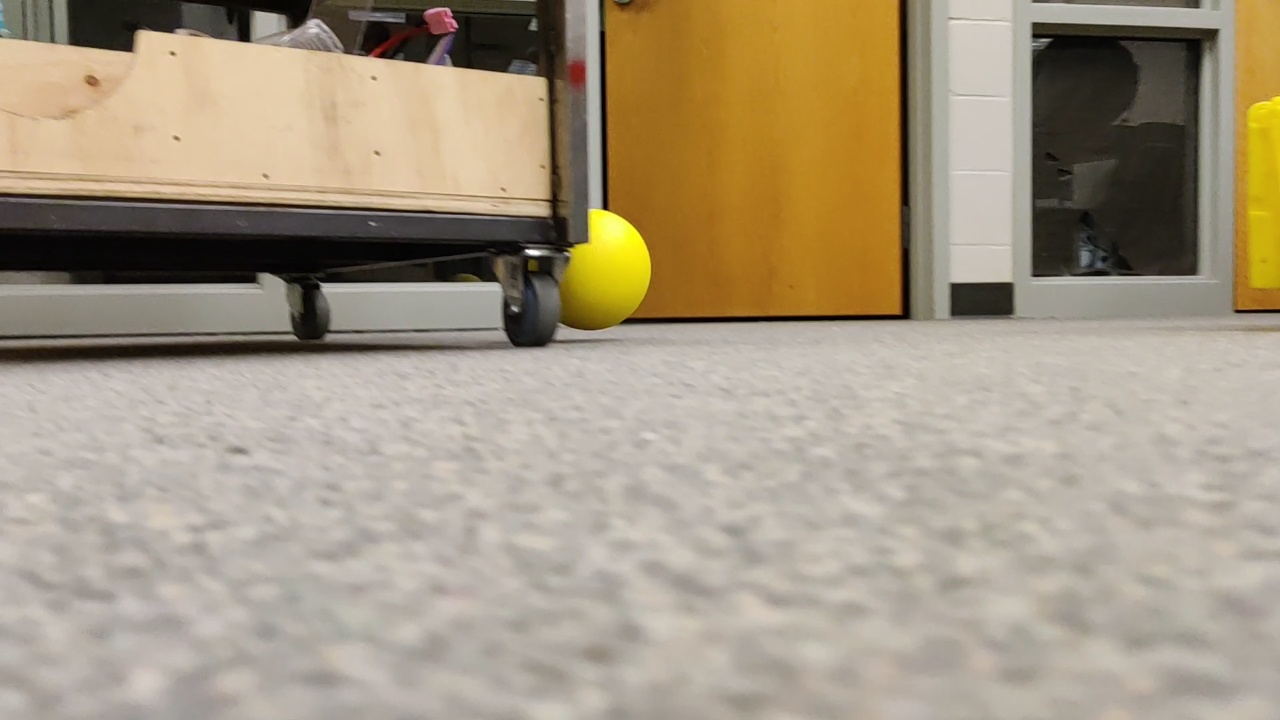Ball: (549, 211, 652, 328)
